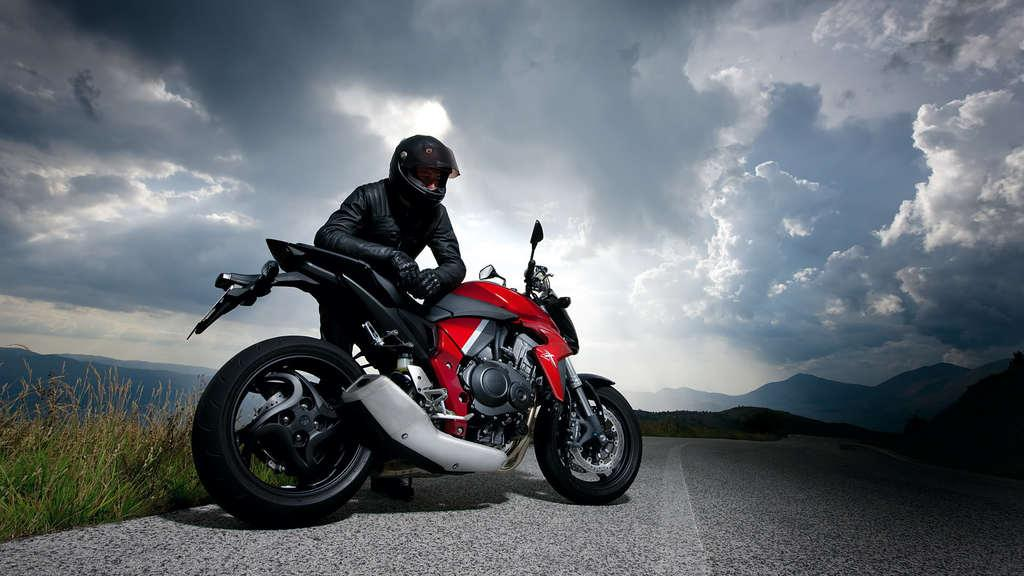helmet: (389, 134, 460, 209)
